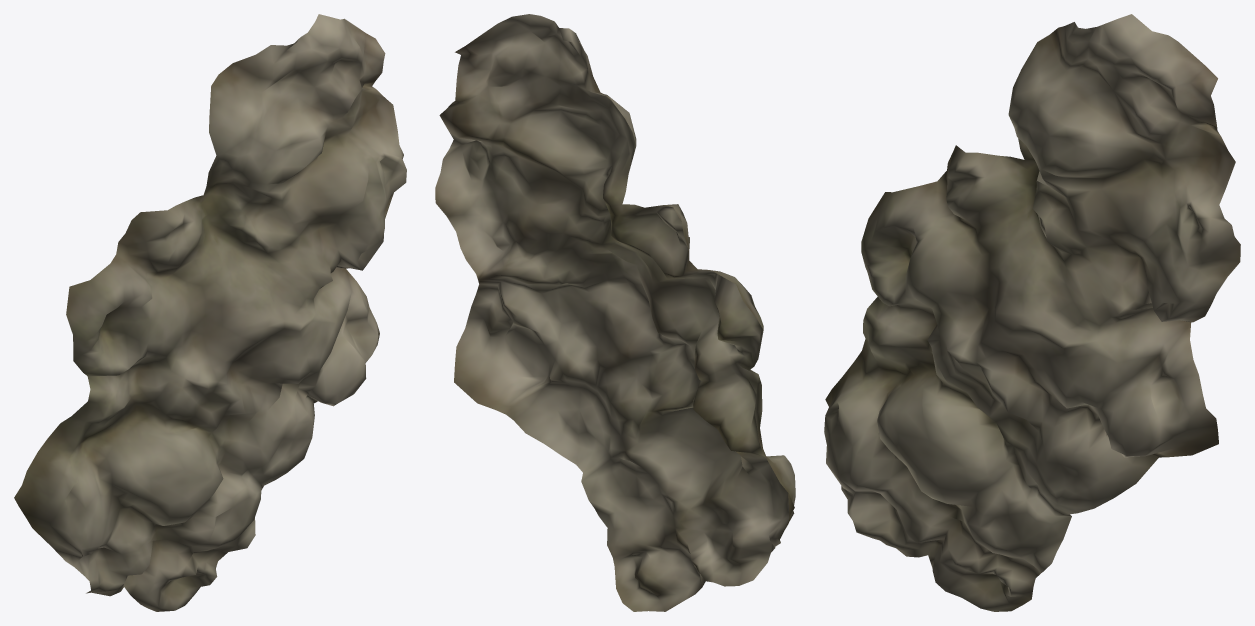
The model's file is Barnacle04.fbx.
The picture shows the model from 3 angles, left to right: view 1: azimuth 30°, elevation 25°; view 2: azimuth 150°, elevation 25°; view 3: azimuth 330°, elevation 25°; orthographic projection. The views are drawn at different scales.
Parts seen in each view (by area): view 1: Barnacle04; view 2: Barnacle04; view 3: Barnacle04.
Part boxes in pixels (x1,y1,x2,y2): Barnacle04: (14,14,406,611); Barnacle04: (435,14,795,611); Barnacle04: (824,14,1240,611).
Size of the model in its own units: 47.01 by 68.57 by 9.33.
